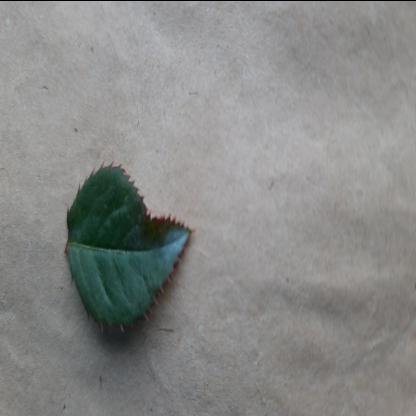normal: (66, 158, 192, 340)
